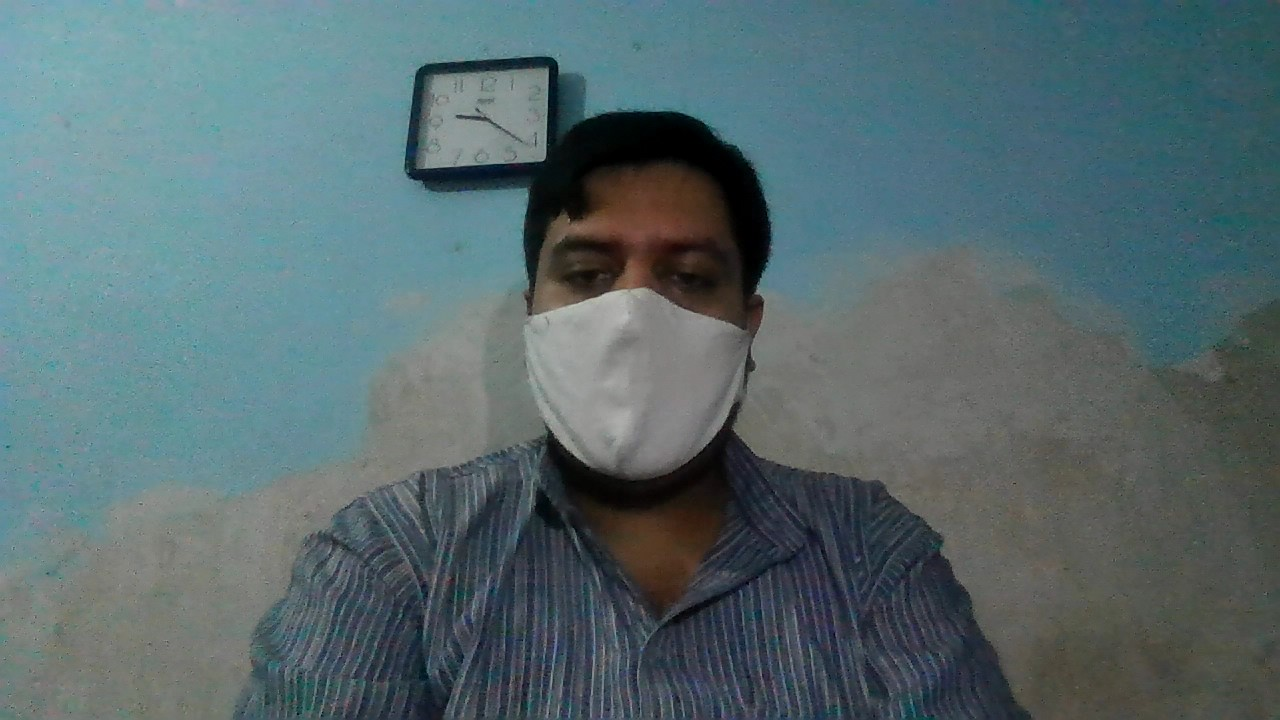Mask: (519, 289, 762, 478)
